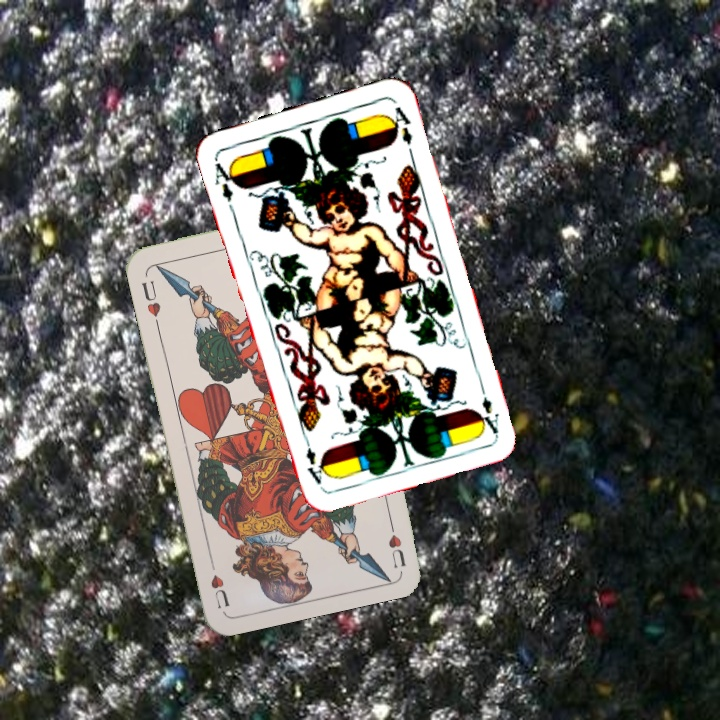EA: (474, 378, 502, 436), (210, 155, 240, 205)
HU: (384, 513, 408, 571), (137, 276, 163, 320)
